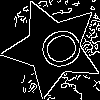O: (28, 23, 87, 78)
